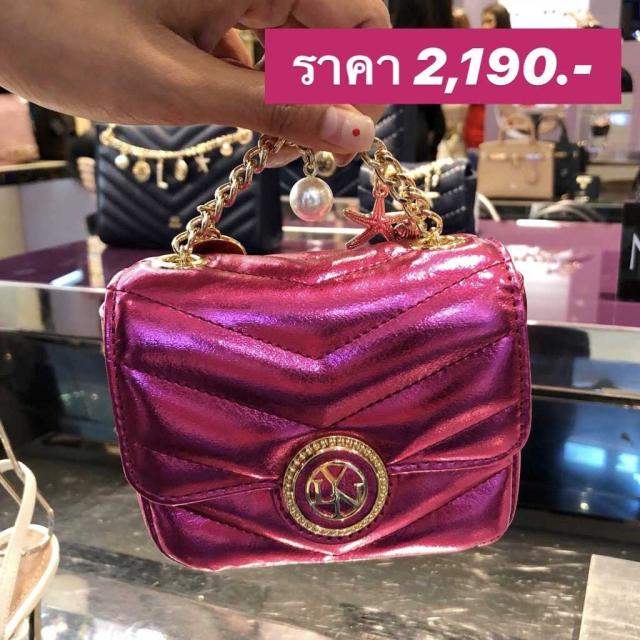bag: (99, 109, 541, 568)
